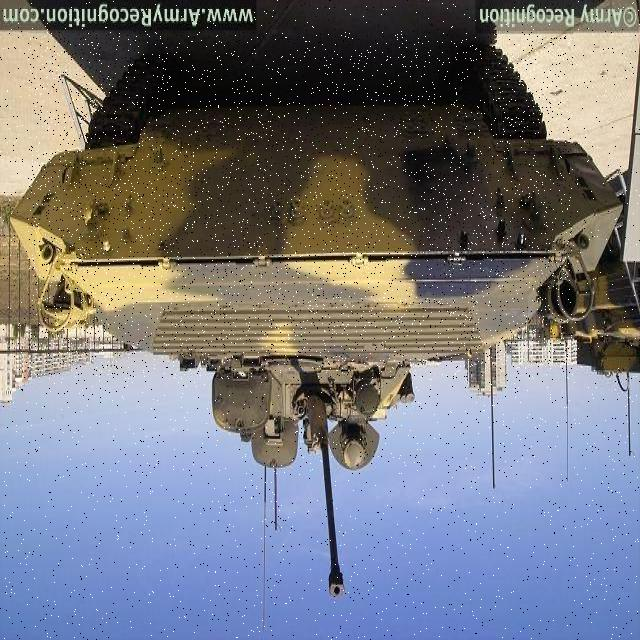MIL_MBT: (28, 32, 573, 378)
